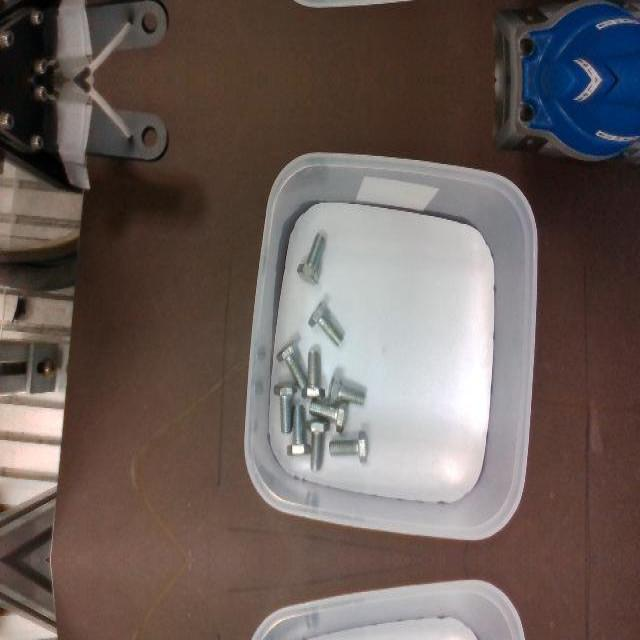screw: (307, 299, 343, 345), (276, 339, 307, 389), (296, 233, 325, 285), (329, 430, 368, 464), (305, 417, 329, 471), (308, 400, 348, 432), (273, 381, 297, 433), (286, 404, 310, 456), (301, 350, 325, 400), (326, 375, 365, 405)
